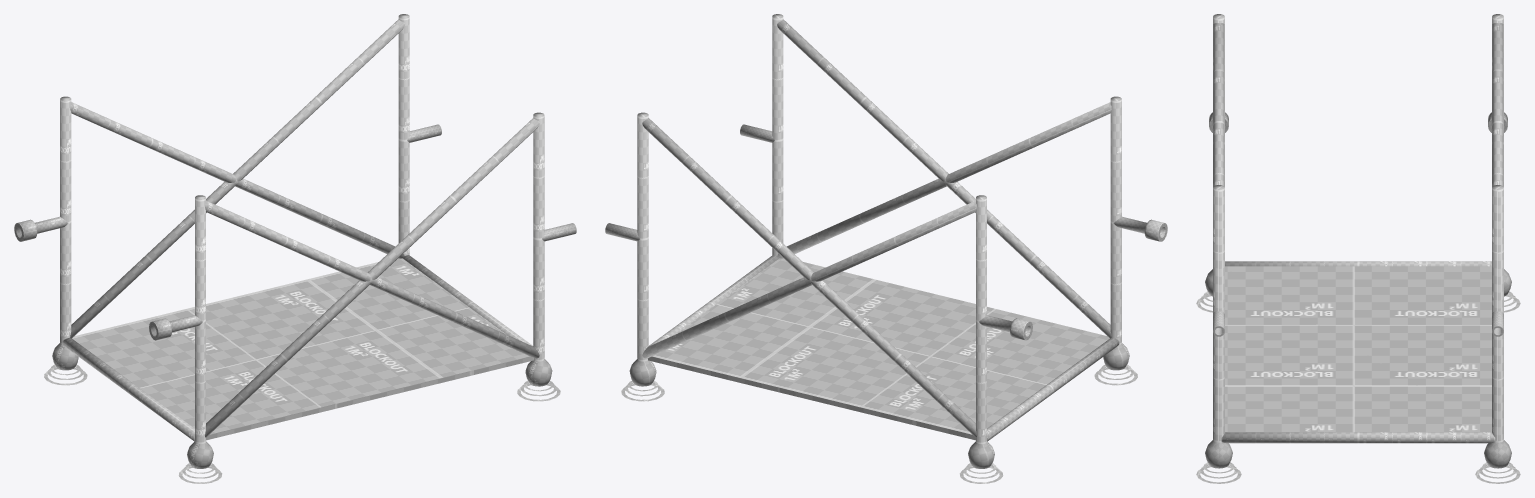
Rendered from ConstructionSite_Scaffolding_Modular.fbx.
The picture shows the model from 3 angles, left to right: view 1: azimuth 30°, elevation 25°; view 2: azimuth 150°, elevation 25°; view 3: azimuth 270°, elevation 25°; orthographic projection. The views are drawn at different scales.
Visible parts, largest first — view 1: ConstructionSite_Scaffolding_Floor, ConstructionSite_Scaffolding_Cross, ConstructionSite_Scaffolding_Cross1, ConstructionSite_Scaffolding_Pole, ConstructionSite_Scaffolding_Pole3, ConstructionSite_Scaffolding_Pole2, ConstructionSite_Scaffolding_Pole4, ConstructionSite_Scaffolding_Bottom_Support_Pole1, ConstructionSite_Scaffolding_Bottom_Support_Pole, ConstructionSite_Scaffolding_Connector_Female, ConstructionSite_Scaffolding_Connector_Female1; view 2: ConstructionSite_Scaffolding_Floor, ConstructionSite_Scaffolding_Cross1, ConstructionSite_Scaffolding_Cross, ConstructionSite_Scaffolding_Pole4, ConstructionSite_Scaffolding_Pole2, ConstructionSite_Scaffolding_Pole3, ConstructionSite_Scaffolding_Pole, ConstructionSite_Scaffolding_Bottom_Support_Pole1, ConstructionSite_Scaffolding_Bottom_Support_Pole, ConstructionSite_Scaffolding_Connector_Female1, ConstructionSite_Scaffolding_Connector_Female; view 3: ConstructionSite_Scaffolding_Floor, ConstructionSite_Scaffolding_Pole4, ConstructionSite_Scaffolding_Pole, ConstructionSite_Scaffolding_Bottom_Support_Pole, ConstructionSite_Scaffolding_Cross, ConstructionSite_Scaffolding_Cross1, ConstructionSite_Scaffolding_Bottom_Support_Pole1, ConstructionSite_Scaffolding_Pole2, ConstructionSite_Scaffolding_Pole3, ConstructionSite_Scaffolding_Thruster3, ConstructionSite_Scaffolding_Thruster2.
Boxes of the visible parts, bbox=[...] form: ConstructionSite_Scaffolding_Floor: bbox=[72, 258, 533, 440]; ConstructionSite_Scaffolding_Cross: bbox=[205, 118, 539, 437]; ConstructionSite_Scaffolding_Cross1: bbox=[70, 19, 404, 338]; ConstructionSite_Scaffolding_Pole: bbox=[525, 112, 552, 386]; ConstructionSite_Scaffolding_Pole3: bbox=[52, 96, 78, 370]; ConstructionSite_Scaffolding_Pole2: bbox=[187, 195, 213, 468]; ConstructionSite_Scaffolding_Pole4: bbox=[398, 14, 409, 255]; ConstructionSite_Scaffolding_Bottom_Support_Pole1: bbox=[62, 337, 194, 441]; ConstructionSite_Scaffolding_Bottom_Support_Pole: bbox=[403, 255, 532, 346]; ConstructionSite_Scaffolding_Connector_Female: bbox=[149, 315, 202, 340]; ConstructionSite_Scaffolding_Connector_Female1: bbox=[14, 216, 68, 241]; ConstructionSite_Scaffolding_Floor: bbox=[648, 258, 1109, 440]; ConstructionSite_Scaffolding_Cross1: bbox=[642, 118, 976, 437]; ConstructionSite_Scaffolding_Cross: bbox=[777, 19, 1111, 338]; ConstructionSite_Scaffolding_Pole4: bbox=[629, 112, 656, 386]; ConstructionSite_Scaffolding_Pole2: bbox=[1103, 96, 1129, 370]; ConstructionSite_Scaffolding_Pole3: bbox=[968, 195, 994, 468]; ConstructionSite_Scaffolding_Pole: bbox=[772, 14, 783, 255]; ConstructionSite_Scaffolding_Bottom_Support_Pole1: bbox=[987, 337, 1119, 441]; ConstructionSite_Scaffolding_Bottom_Support_Pole: bbox=[649, 255, 778, 346]; ConstructionSite_Scaffolding_Connector_Female1: bbox=[979, 315, 1032, 340]; ConstructionSite_Scaffolding_Connector_Female: bbox=[1113, 216, 1167, 241]; ConstructionSite_Scaffolding_Floor: bbox=[1225, 266, 1491, 432]; ConstructionSite_Scaffolding_Pole4: bbox=[1484, 185, 1511, 468]; ConstructionSite_Scaffolding_Pole: bbox=[1205, 185, 1232, 468]; ConstructionSite_Scaffolding_Bottom_Support_Pole: bbox=[1221, 432, 1495, 443]; ConstructionSite_Scaffolding_Cross: bbox=[1213, 23, 1224, 185]; ConstructionSite_Scaffolding_Cross1: bbox=[1492, 23, 1503, 185]; ConstructionSite_Scaffolding_Bottom_Support_Pole1: bbox=[1225, 261, 1491, 266]; ConstructionSite_Scaffolding_Pole2: bbox=[1205, 14, 1224, 296]; ConstructionSite_Scaffolding_Pole3: bbox=[1492, 14, 1511, 296]; ConstructionSite_Scaffolding_Thruster3: bbox=[1196, 462, 1241, 483]; ConstructionSite_Scaffolding_Thruster2: bbox=[1475, 462, 1520, 483].
Bounding box in the file's own units: 360 × 227 × 233.
